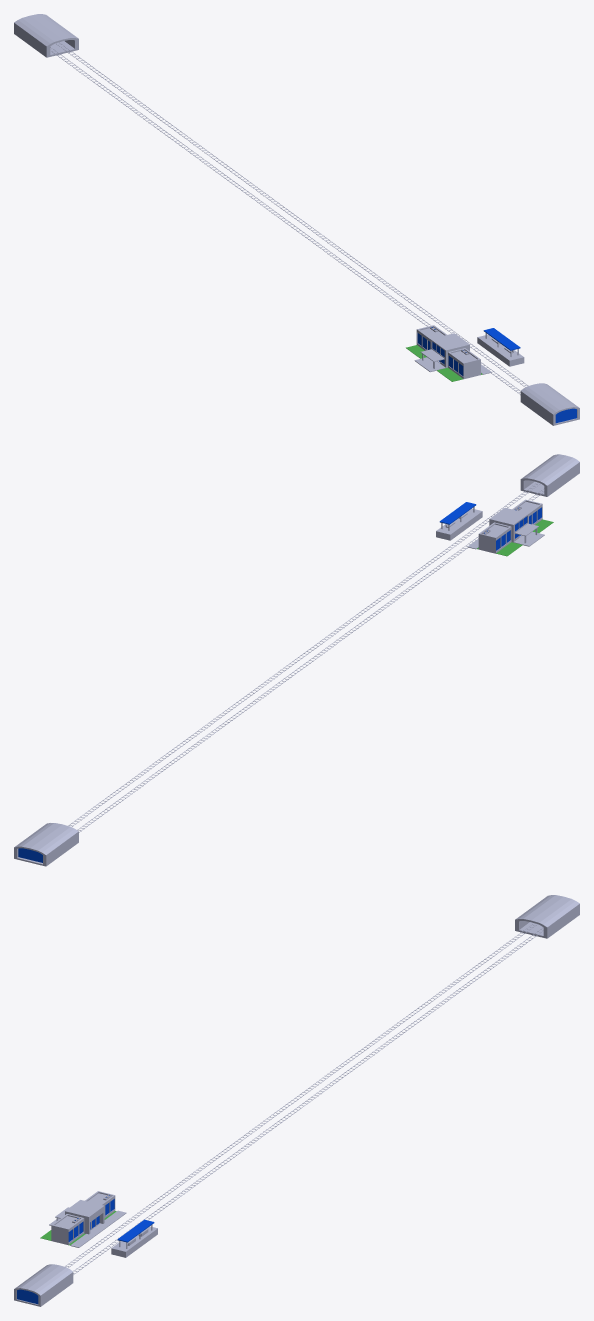
Rendered from Transport.glb.
The picture shows the model from 3 angles, top to bottom: view 1: azimuth 30°, elevation 25°; view 2: azimuth 150°, elevation 25°; view 3: azimuth 330°, elevation 25°; orthographic projection.
Parts seen in each view (by area): view 1: Railway Station, GateEnter, Railway Track.001, GateExit, Railway Track.002; view 2: Railway Station, GateEnter, Railway Track.001, GateExit, Railway Track.002; view 3: Railway Station, GateEnter, Railway Track.002, GateExit, Railway Track.001.
Boxes of the visible parts, <box> form: Railway Station: <box>406,325,524,381</box>; GateEnter: <box>14,14,78,57</box>; Railway Track.001: <box>56,42,528,387</box>; GateExit: <box>520,383,579,425</box>; Railway Track.002: <box>50,46,520,394</box>; Railway Station: <box>436,499,553,556</box>; GateEnter: <box>14,823,78,866</box>; Railway Track.001: <box>68,482,540,826</box>; GateExit: <box>520,454,579,496</box>; Railway Track.002: <box>77,488,544,832</box>; Railway Station: <box>40,1191,157,1257</box>; GateEnter: <box>515,895,579,938</box>; Railway Track.002: <box>65,923,537,1267</box>; GateExit: <box>14,1264,73,1306</box>; Railway Track.001: <box>73,927,543,1274</box>.
Size of the model in its own units: 12.05 by 3.3 by 131.
